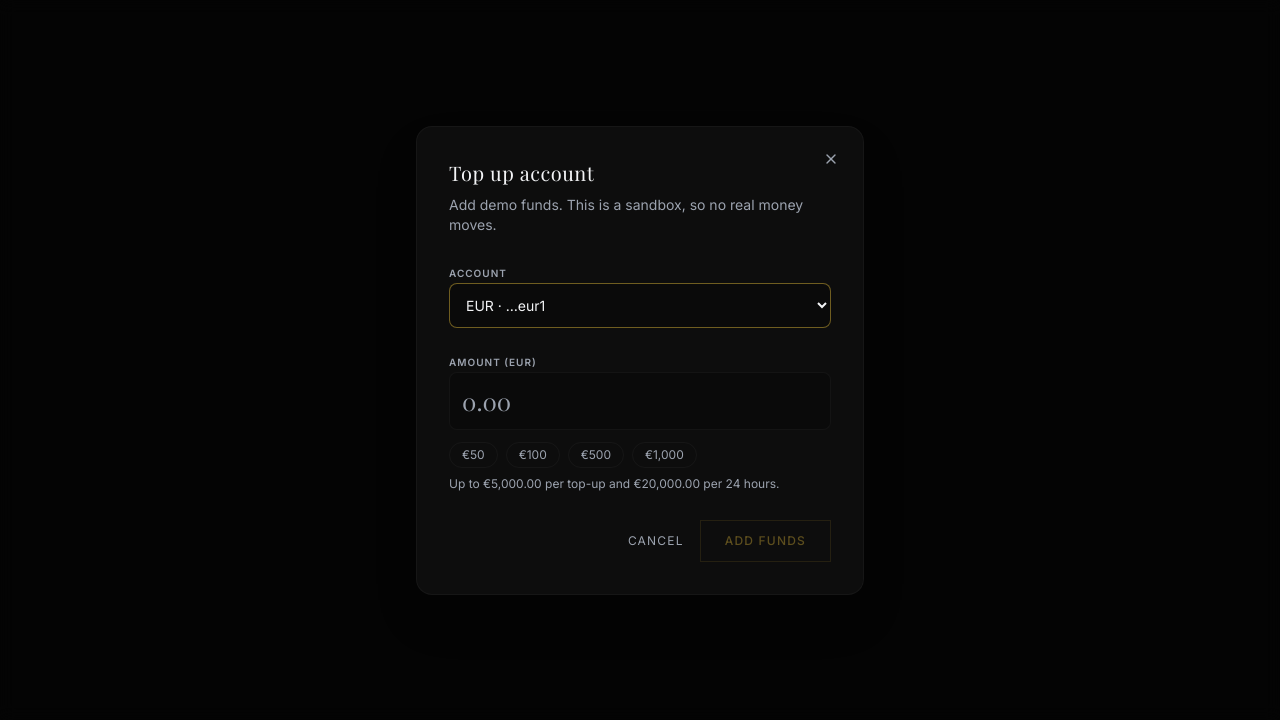
Scenario: TopUpModal › explains the daily limit when the server refuses
This screenshot has width=1280, height=720.
Step 1. Type "10" into the field labelled "Amount (EUR)" → (640, 400), box [449,372,831,430]
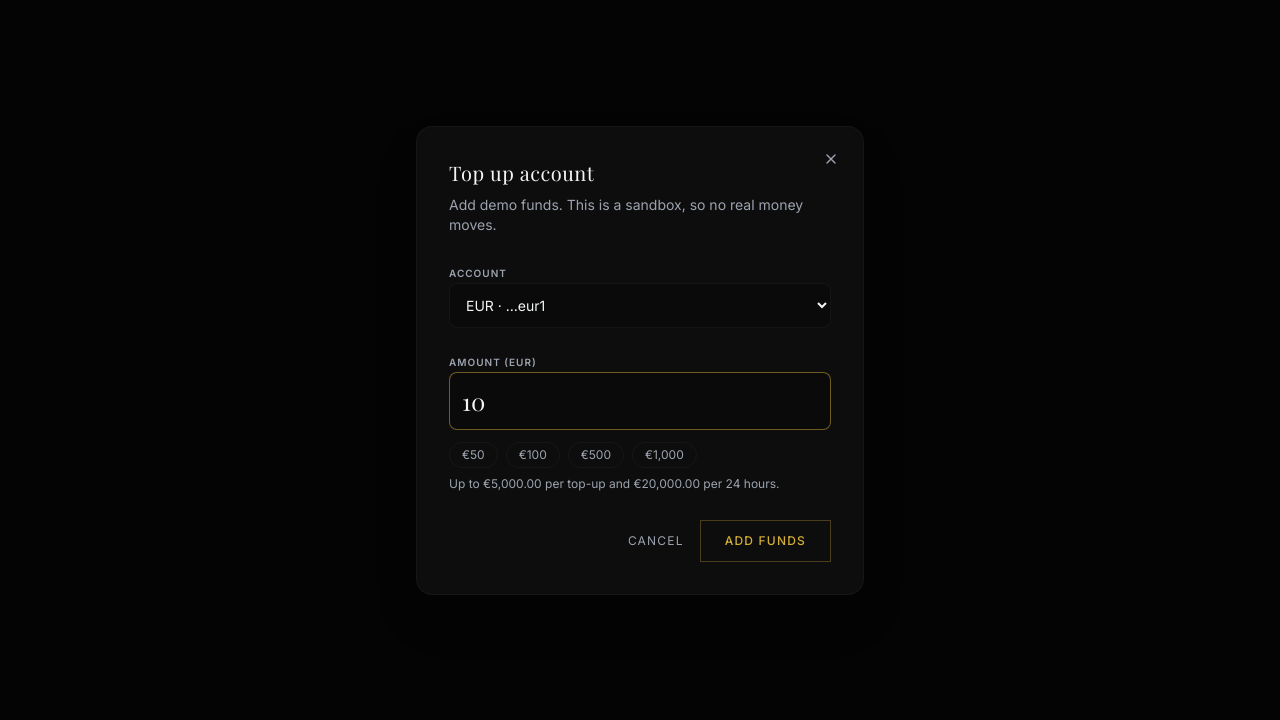
Step 2. Click the button "Add funds" → (765, 540), box [700,520,831,562]
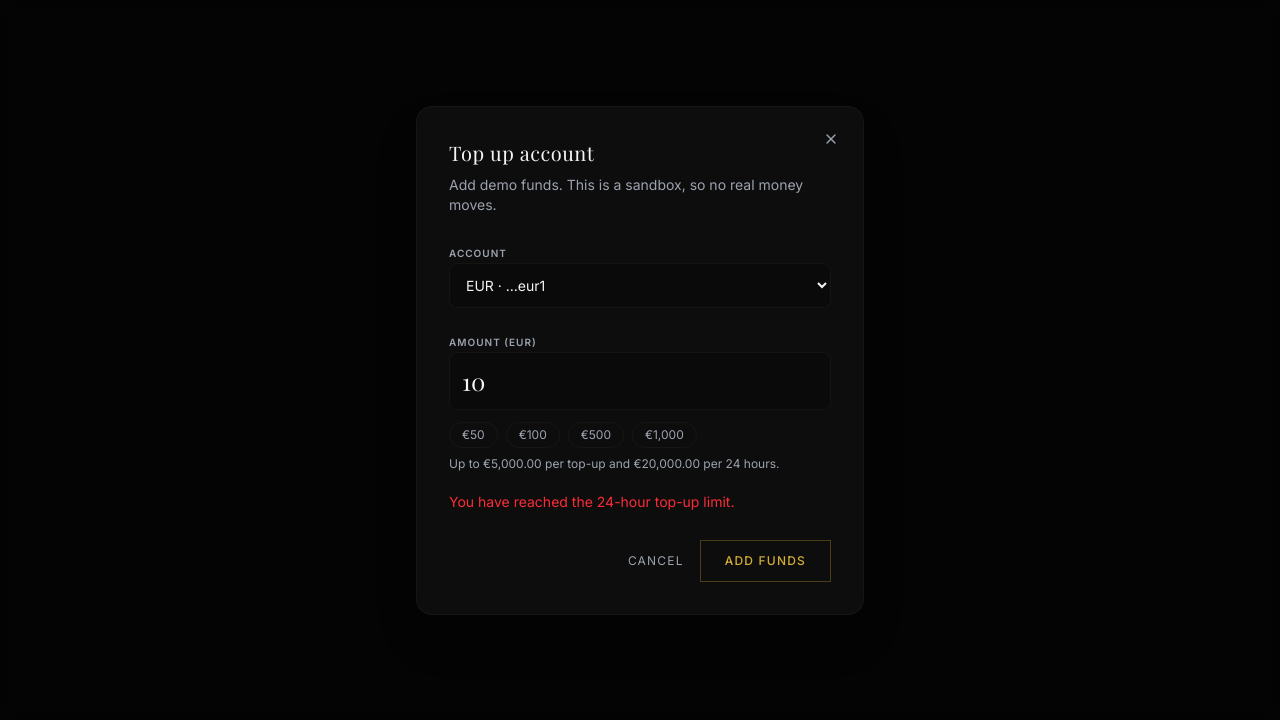
expect the message reads "You have reached the 24-hour top-up limit.": met, box [449,492,734,510]
